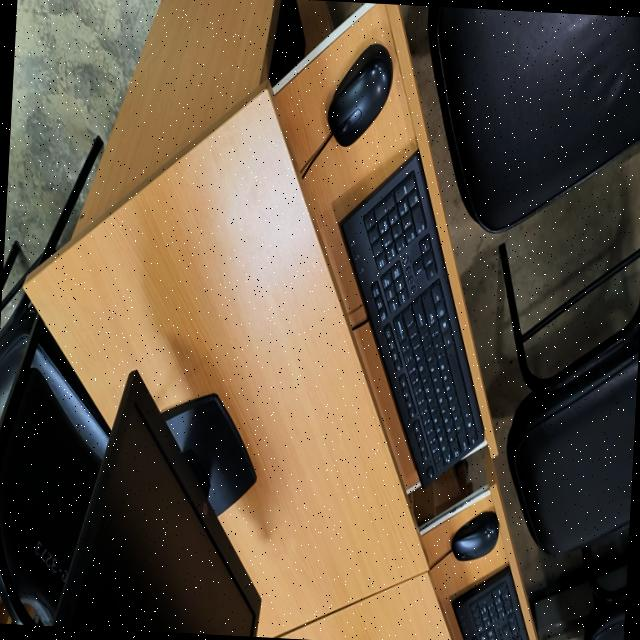Chair: (427, 5, 640, 231), (498, 243, 640, 554), (0, 295, 110, 626)
Cpu: (268, 0, 304, 85)
Monitor: (339, 151, 484, 486), (451, 566, 528, 640)
Mouse: (327, 44, 391, 146), (450, 511, 498, 560)
